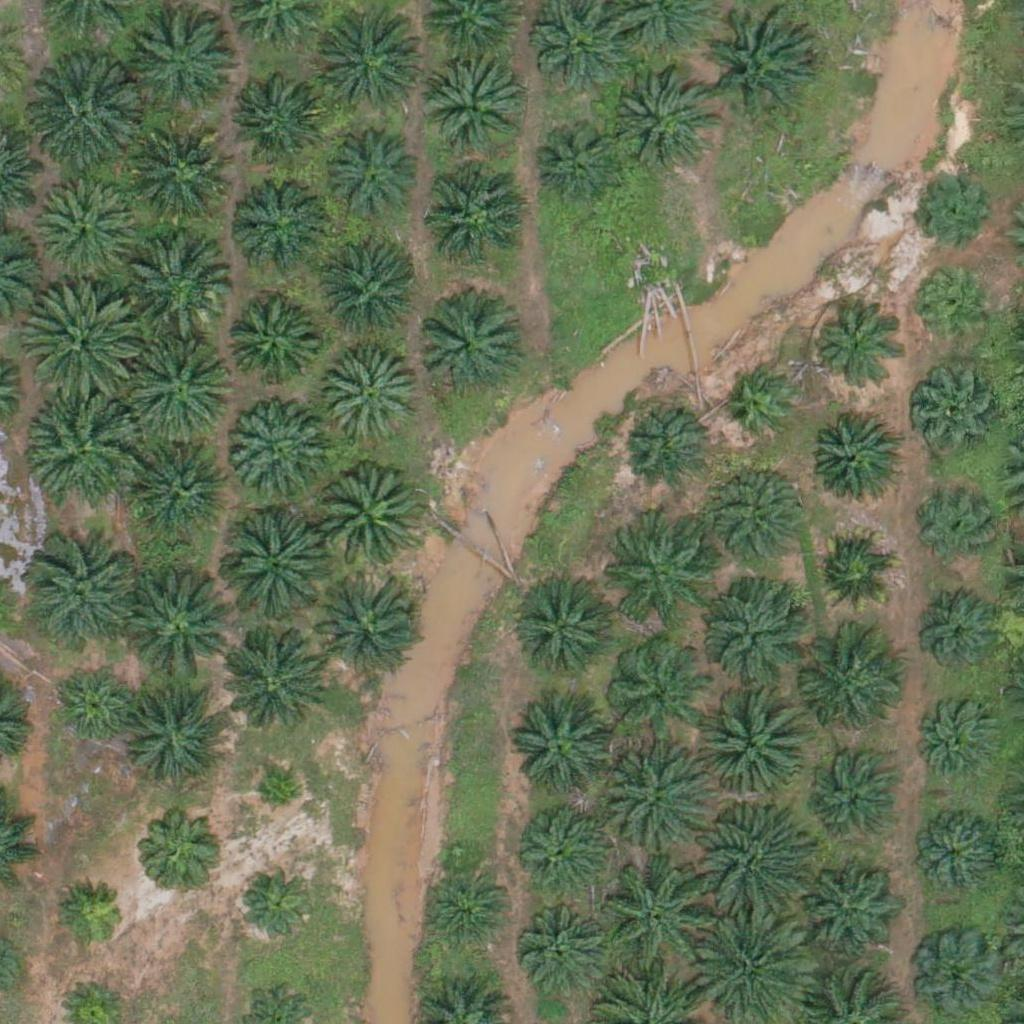Kelapa_Sawit: (699, 802, 812, 915), (698, 684, 811, 797), (699, 569, 812, 682), (596, 744, 709, 857), (215, 509, 328, 622), (212, 626, 325, 739), (30, 390, 143, 503), (27, 538, 140, 651), (700, 9, 813, 122), (120, 226, 233, 339), (27, 59, 140, 172), (119, 568, 231, 682), (123, 327, 235, 441), (25, 279, 137, 393), (795, 628, 907, 741), (603, 858, 715, 971), (311, 461, 423, 574), (308, 569, 420, 682), (124, 678, 236, 791), (315, 4, 427, 117), (798, 866, 898, 967), (600, 526, 700, 627), (606, 638, 706, 739), (512, 792, 612, 893), (512, 700, 612, 801), (518, 574, 618, 675), (415, 298, 515, 399), (322, 347, 422, 448), (220, 292, 320, 393), (227, 400, 327, 501), (609, 70, 709, 171), (418, 56, 518, 157), (36, 180, 136, 281), (907, 805, 1007, 905), (707, 461, 807, 561), (515, 894, 615, 994), (320, 249, 420, 349), (134, 438, 234, 538), (424, 166, 524, 266), (320, 125, 420, 225), (232, 170, 332, 270), (229, 66, 329, 166), (135, 16, 235, 116), (127, 129, 227, 229), (51, 664, 139, 752), (909, 264, 997, 352), (913, 482, 1001, 570), (914, 594, 1002, 682), (914, 699, 1002, 787), (622, 402, 710, 490), (136, 801, 224, 889), (911, 365, 998, 453), (813, 306, 900, 394), (809, 411, 896, 499), (234, 857, 321, 945), (809, 529, 896, 617), (806, 750, 893, 838), (421, 860, 508, 948), (911, 165, 998, 253), (535, 118, 622, 206), (725, 368, 800, 444), (56, 878, 131, 953), (253, 772, 303, 822)
